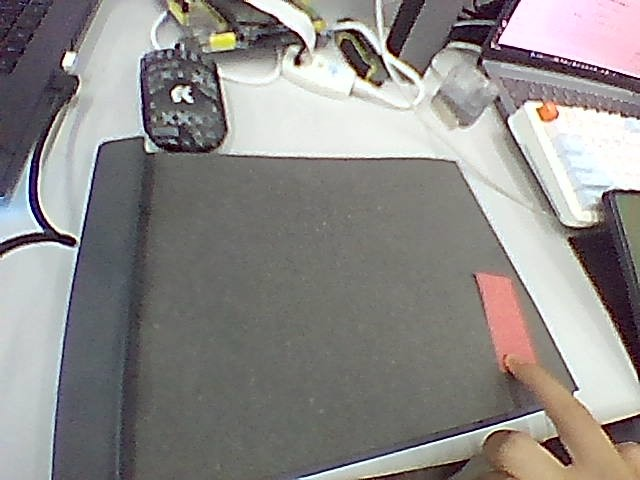card: (474, 272, 536, 369)
